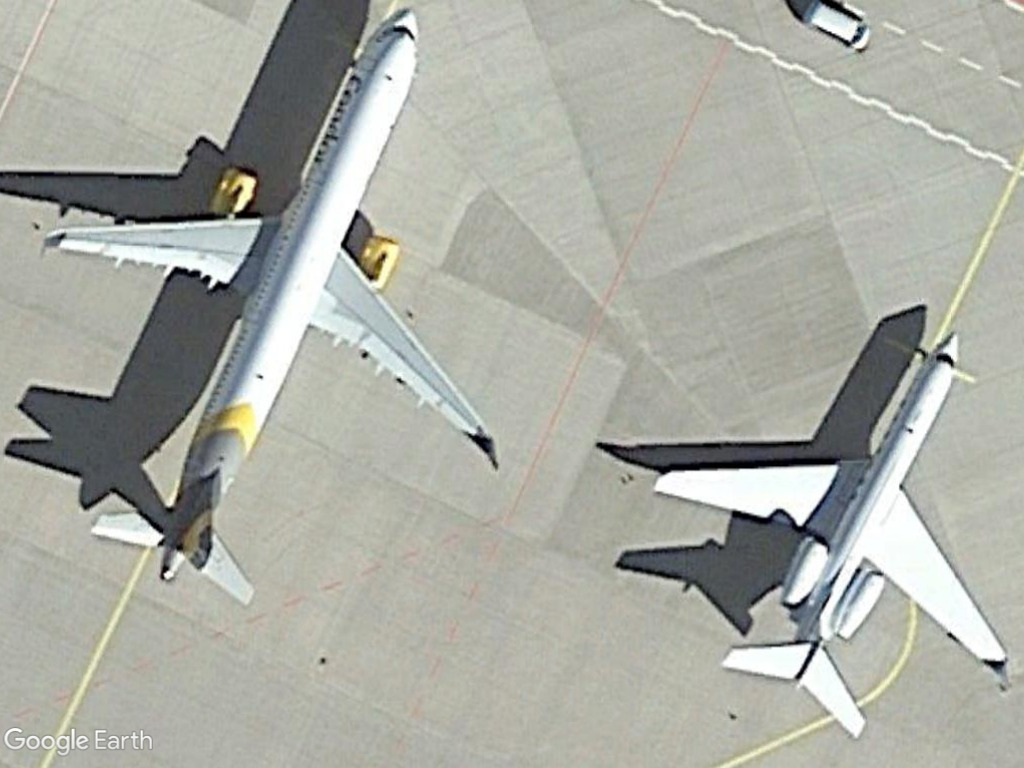airliner: (23, 2, 530, 613)
chartered: (643, 259, 1011, 750)
